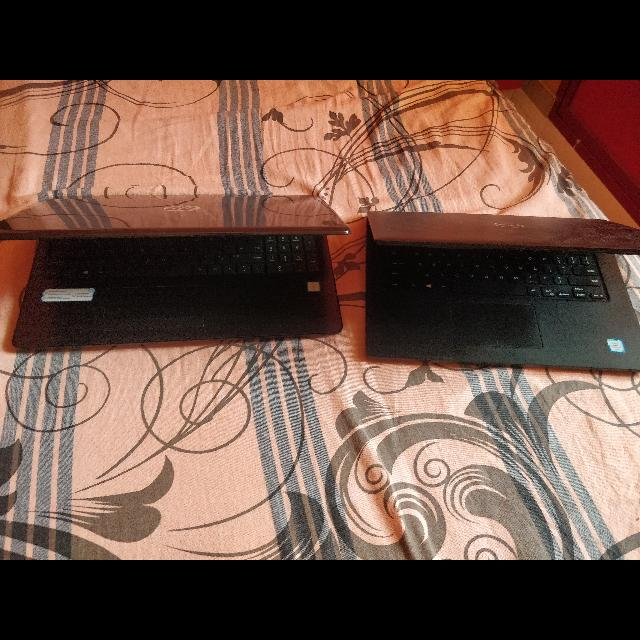Laptop: (0, 186, 352, 357), (360, 202, 640, 378)
